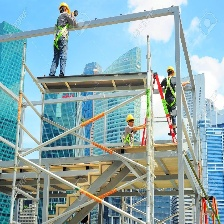person: (50, 5, 78, 78), (160, 68, 181, 133), (124, 113, 138, 147)
